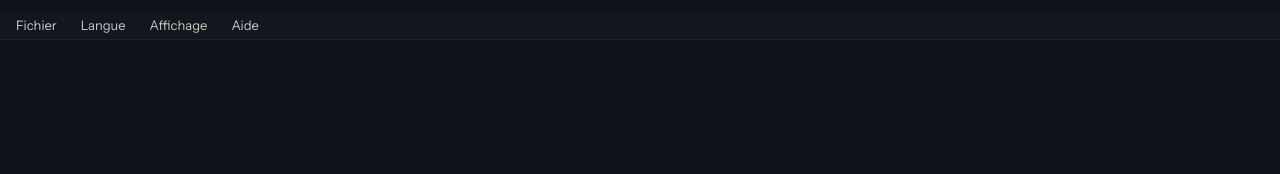
Test: MenuBar › switches menu on hover while one is open
Click the menu item "Fichier" at (36, 26), box [4, 12, 69, 40]
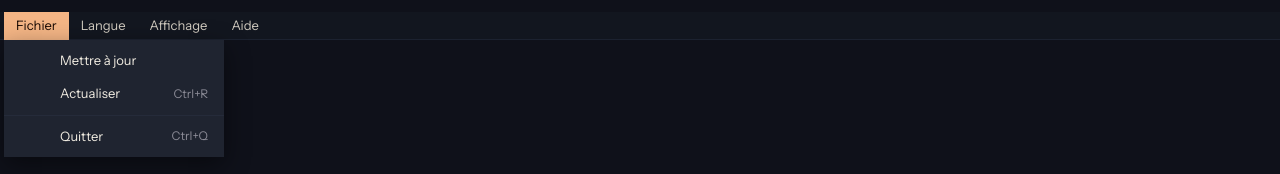
Hover over the menu item "Affichage" at (178, 26), box [138, 12, 219, 40]
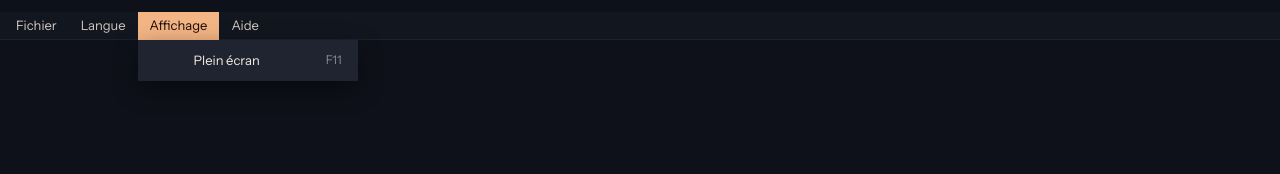
Now the menu named "Affichage" is shown, box [138, 40, 358, 81]
